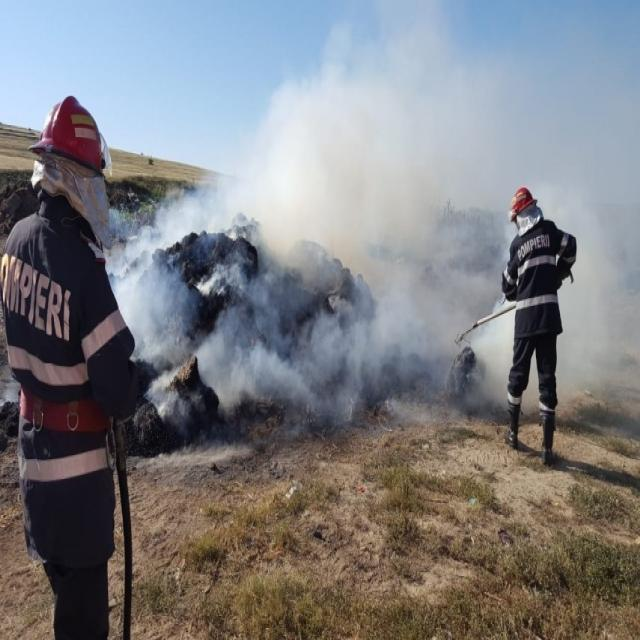Smoke: (127, 12, 507, 461)
